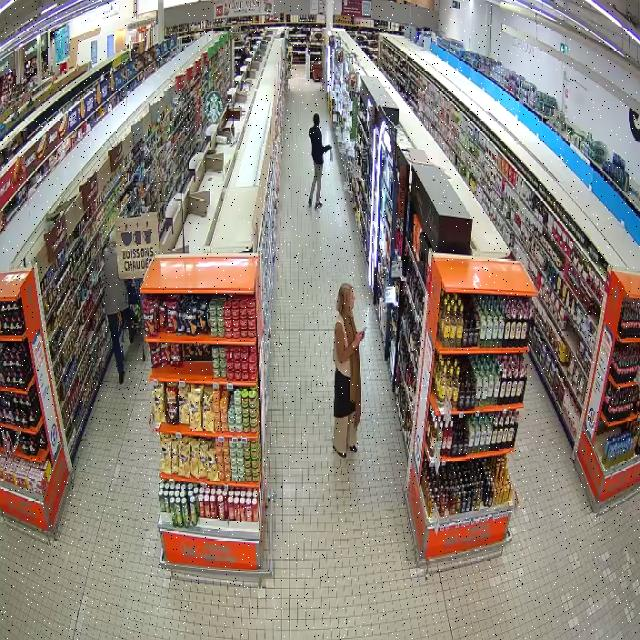article: (330, 149, 333, 162)
hands: (352, 332, 364, 347), (328, 146, 332, 149)
person: (333, 283, 365, 457), (103, 233, 135, 383), (308, 113, 333, 208)
